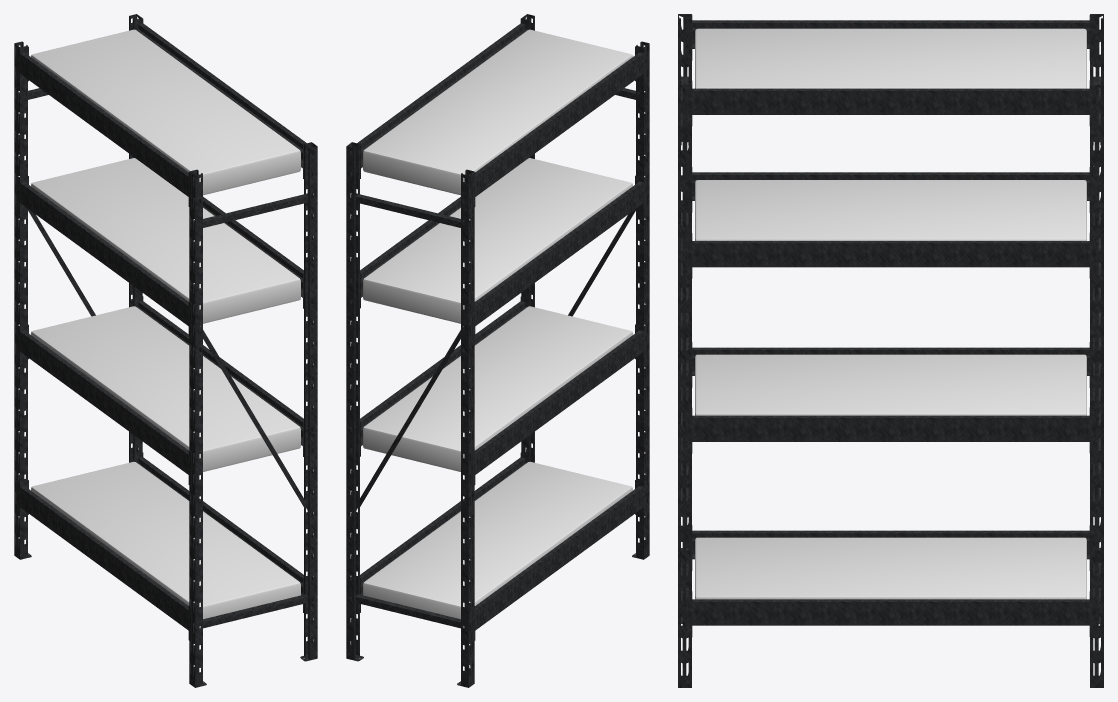
Rendered from SketchupMetalshelf.FBX.
The picture shows the model from 3 angles, left to right: view 1: azimuth 30°, elevation 25°; view 2: azimuth 150°, elevation 25°; view 3: azimuth 270°, elevation 25°; orthographic projection. The views are drawn at different scales.
Parts seen in each view (by area): view 1: SketchupMetalShelf, Box003, Box004, Box002, Box001; view 2: SketchupMetalShelf, Box003, Box004, Box002, Box001; view 3: SketchupMetalShelf, Box001, Box002, Box004, Box003.
Boxes of the visible parts, box(x1,y1,x2,y2) form: SketchupMetalShelf: box(14, 14, 317, 687); Box003: box(31, 29, 300, 195); Box004: box(31, 158, 300, 323); Box002: box(31, 306, 300, 471); Box001: box(31, 461, 300, 628); SketchupMetalShelf: box(346, 14, 649, 687); Box003: box(363, 29, 632, 195); Box004: box(363, 158, 632, 323); Box002: box(363, 306, 632, 471); Box001: box(363, 461, 632, 628); SketchupMetalShelf: box(678, 14, 1103, 687); Box001: box(695, 537, 1086, 599); Box002: box(695, 354, 1086, 415); Box004: box(695, 180, 1086, 240); Box003: box(695, 28, 1086, 88).
Bounding box in the file's own units: 9.25 × 36.78 × 23.52.
Materials: 1 (1 with a texture image).
